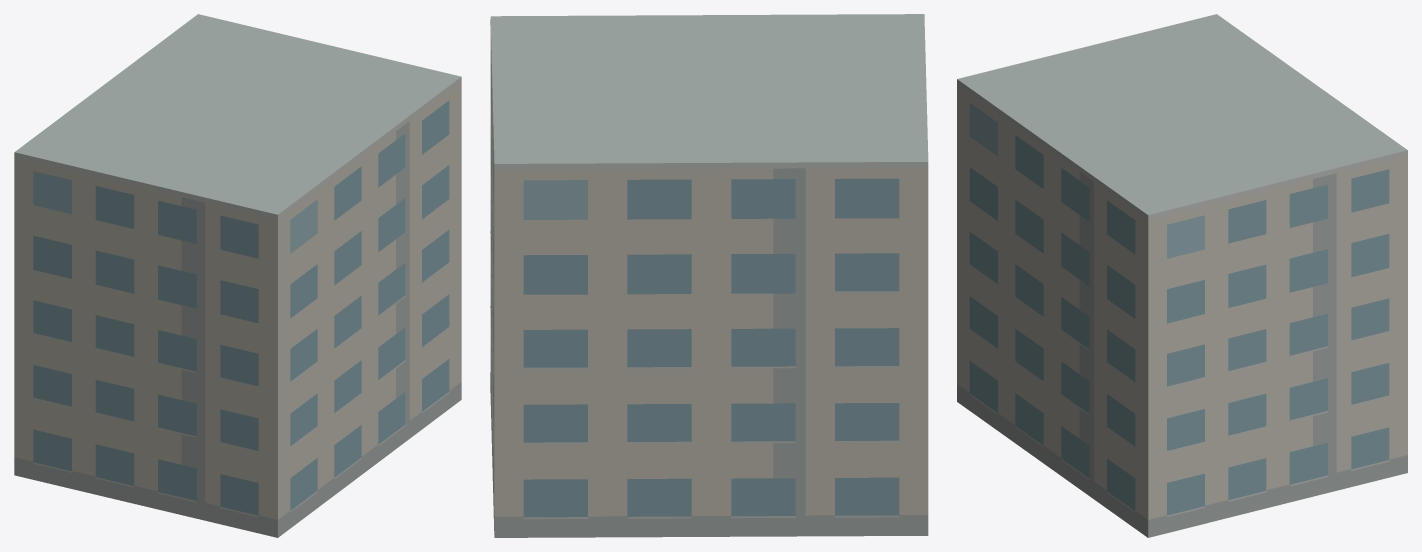
Rendered from residential-4224f80d-ba72-4eb4-8973-60aaa668cfce.glb.
3 views of the same model, side by side, from view 1: azimuth 30°, elevation 25°; view 2: azimuth 150°, elevation 25°; view 3: azimuth 270°, elevation 25° (orthographic). The views are drawn at different scales.
Visible parts, largest first — view 1: residential-4224f80d-ba72-4eb4-8973-60aaa668cfce.tmp; view 2: residential-4224f80d-ba72-4eb4-8973-60aaa668cfce.tmp; view 3: residential-4224f80d-ba72-4eb4-8973-60aaa668cfce.tmp.
Part boxes in pixels (bbox=[...]): residential-4224f80d-ba72-4eb4-8973-60aaa668cfce.tmp: bbox=[14, 14, 461, 537]; residential-4224f80d-ba72-4eb4-8973-60aaa668cfce.tmp: bbox=[490, 14, 928, 537]; residential-4224f80d-ba72-4eb4-8973-60aaa668cfce.tmp: bbox=[957, 14, 1407, 537].
Bounding box in the file's own units: 20.39 × 15.25 × 19.31.
